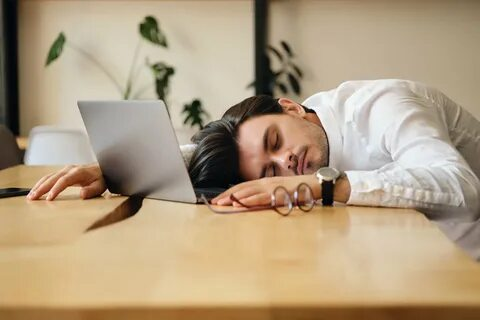sleep: (193, 78, 479, 217)
